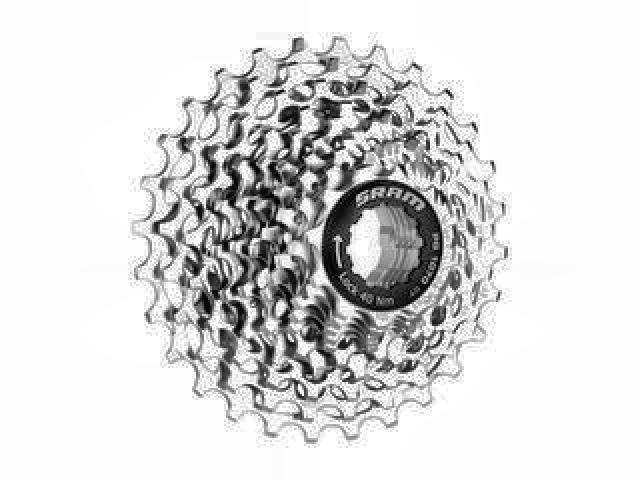cassette: (130, 32, 513, 444)
